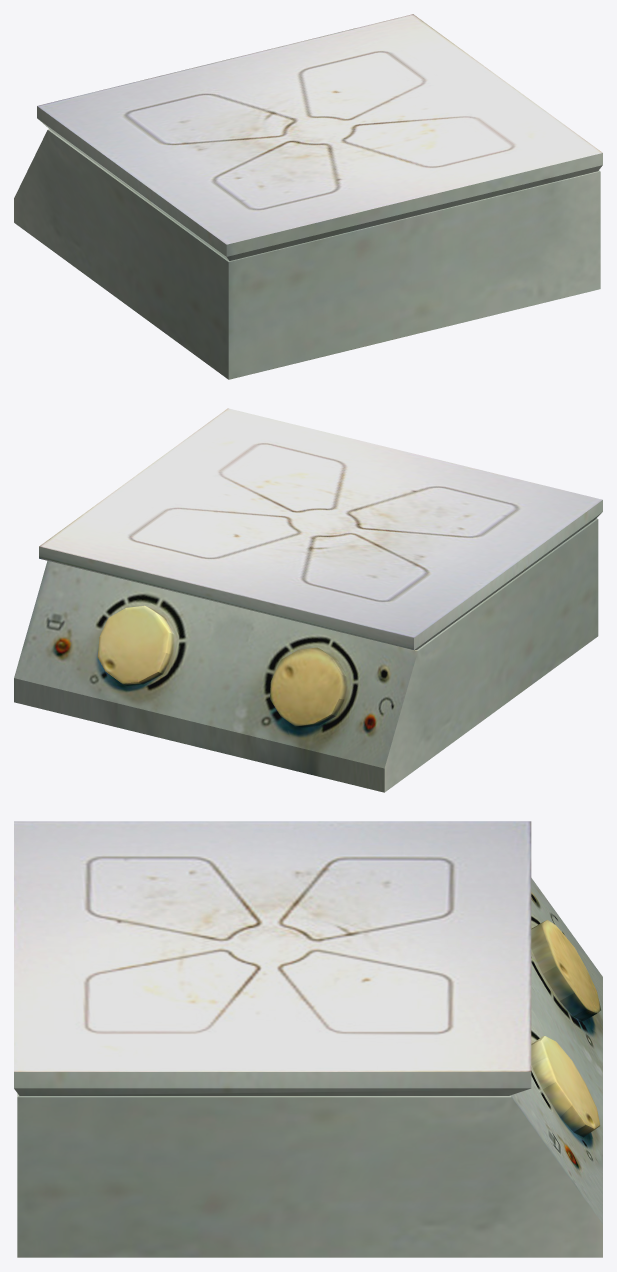
The model's file is Magnetic_Stirrer02.fbx.
3 views of the same model, one above another, from view 1: azimuth 30°, elevation 25°; view 2: azimuth 150°, elevation 25°; view 3: azimuth 270°, elevation 25° (orthographic). The views are drawn at different scales.
Parts seen in each view (by area): view 1: Magnetic_Stirrer02; view 2: Magnetic_Stirrer02; view 3: Magnetic_Stirrer02.
Boxes of the visible parts, x1,y1,x2,y2 form: Magnetic_Stirrer02: (14,14,602,379); Magnetic_Stirrer02: (14,408,602,792); Magnetic_Stirrer02: (14,821,602,1257).
Size of the model in its own units: 0.1963 by 0.0682 by 0.195.
Materials: 1 (1 with a texture image).
